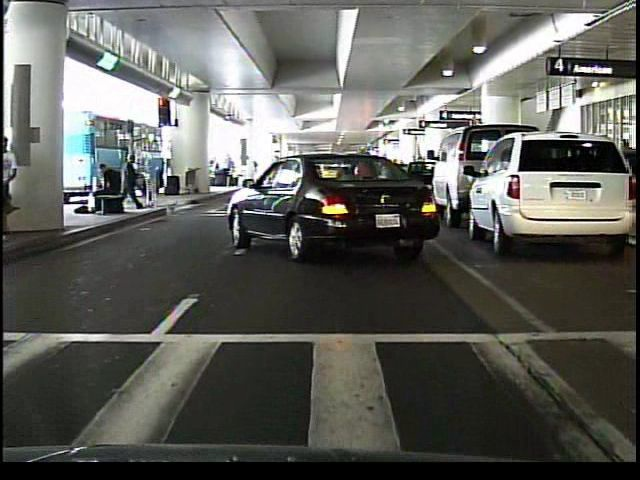person: (88, 162, 124, 220), (118, 147, 146, 219)
